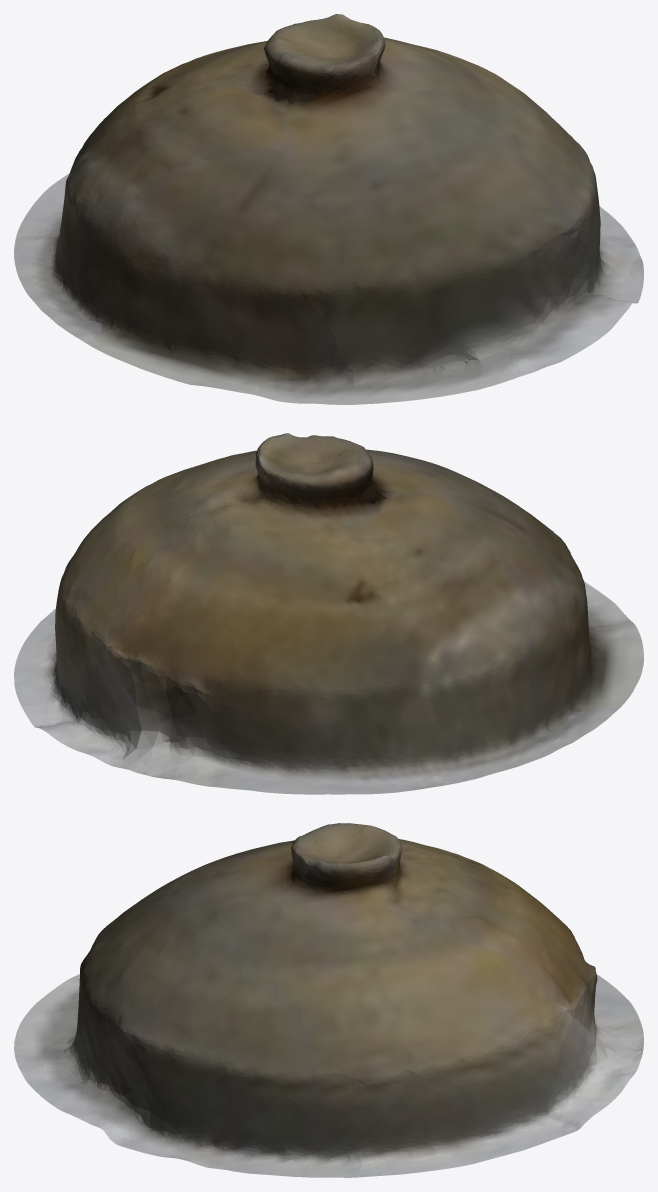
The model's file is suekifuta01.glb.
The picture shows the model from 3 angles, top to bottom: view 1: azimuth 30°, elevation 25°; view 2: azimuth 150°, elevation 25°; view 3: azimuth 270°, elevation 25°; orthographic projection. The views are drawn at different scales.
Parts seen in each view (by area): view 1: mesh; view 2: mesh; view 3: mesh.
Part boxes in pixels (x1,y1,x2,y2): mesh: [14, 14, 643, 404]; mesh: [14, 433, 643, 794]; mesh: [14, 823, 643, 1177].
Size of the model in its own units: 0.1356 by 0.0548 by 0.1441.
1 material, 1 textured.
